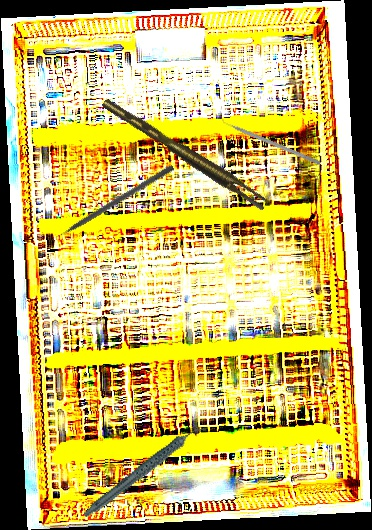Chopper: (216, 112, 324, 166)
Handpiece: (70, 423, 220, 520)
Pusher: (46, 163, 175, 245)
Tissue Forceps: (101, 90, 270, 216)
